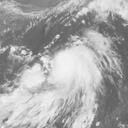cyclone: (46, 31, 106, 97)
